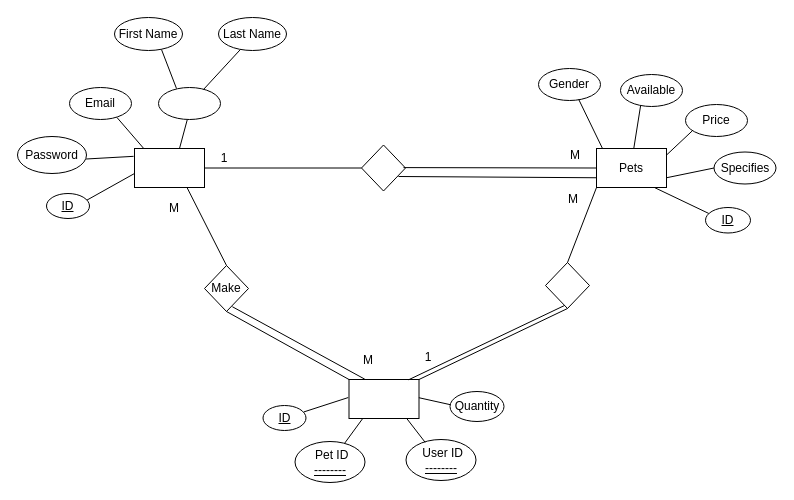
This 794x500 diagram has some shape labels left out. The shapes that lost their labels are listed below. From the top down, each one's centre as x and y in pixels, then its label:
the point at 189,103: Name
the point at 169,168: Users
the point at 383,167: See
the point at 567,285: Sell
the point at 383,398: Order
